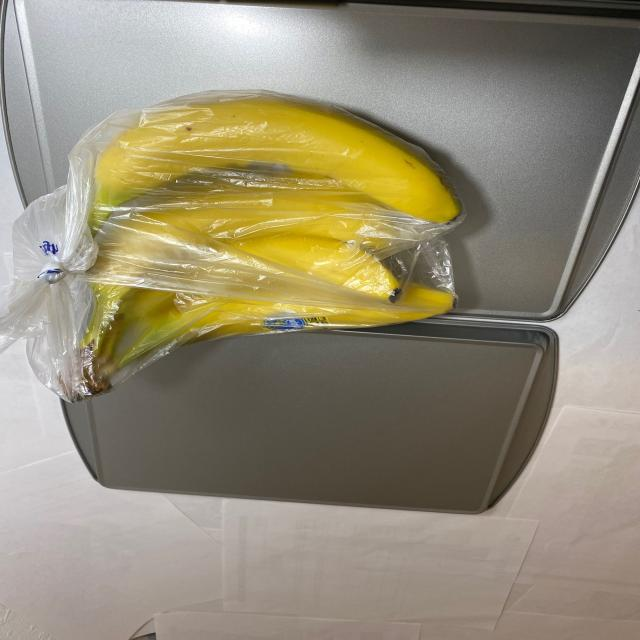banana: (57, 92, 460, 404)
